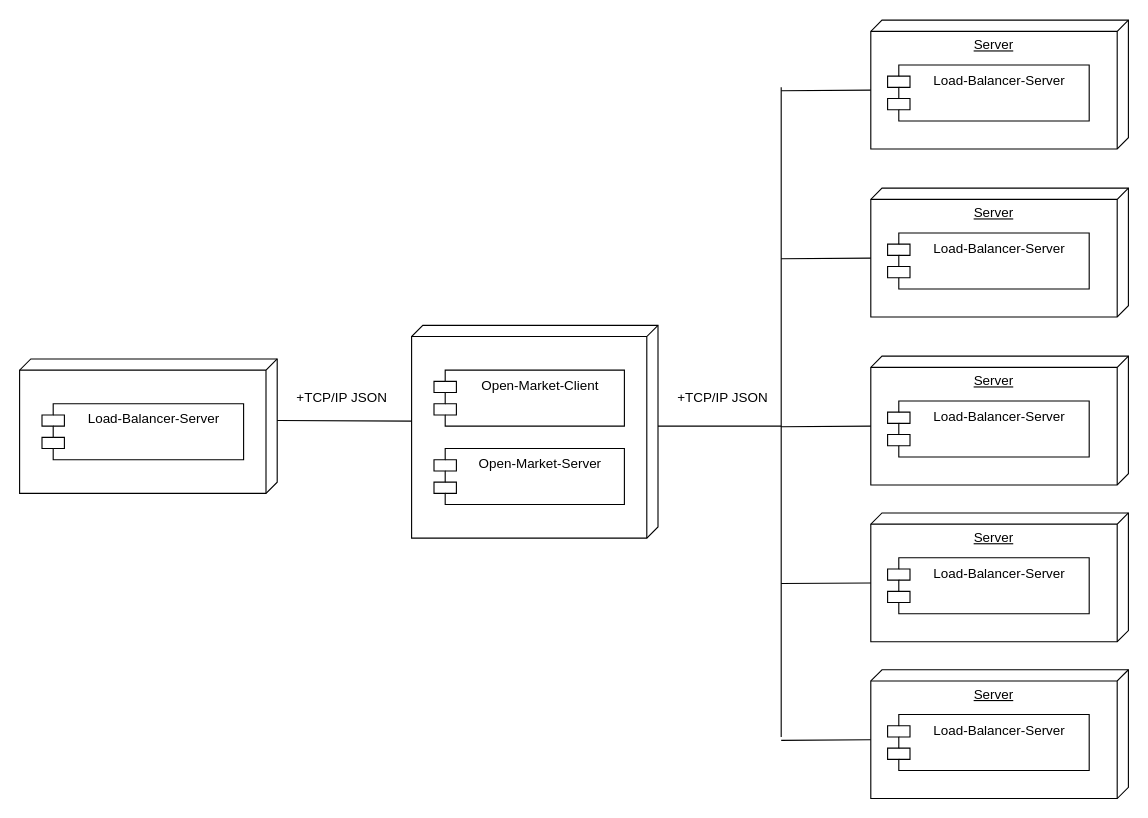
Some shapes in this 1148 by 818 pixel diagram are drawn without their labels. The shapes that lost their labels are listed below. From the top down, each one's box as (x1, y1, x2, y2) in pixels, then its label:
(18, 358, 277, 493): Client
(410, 324, 658, 538): LoadBalancerServer
